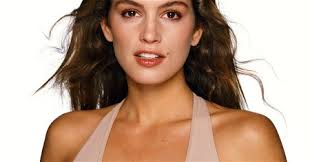mole: (163, 50, 171, 55)
